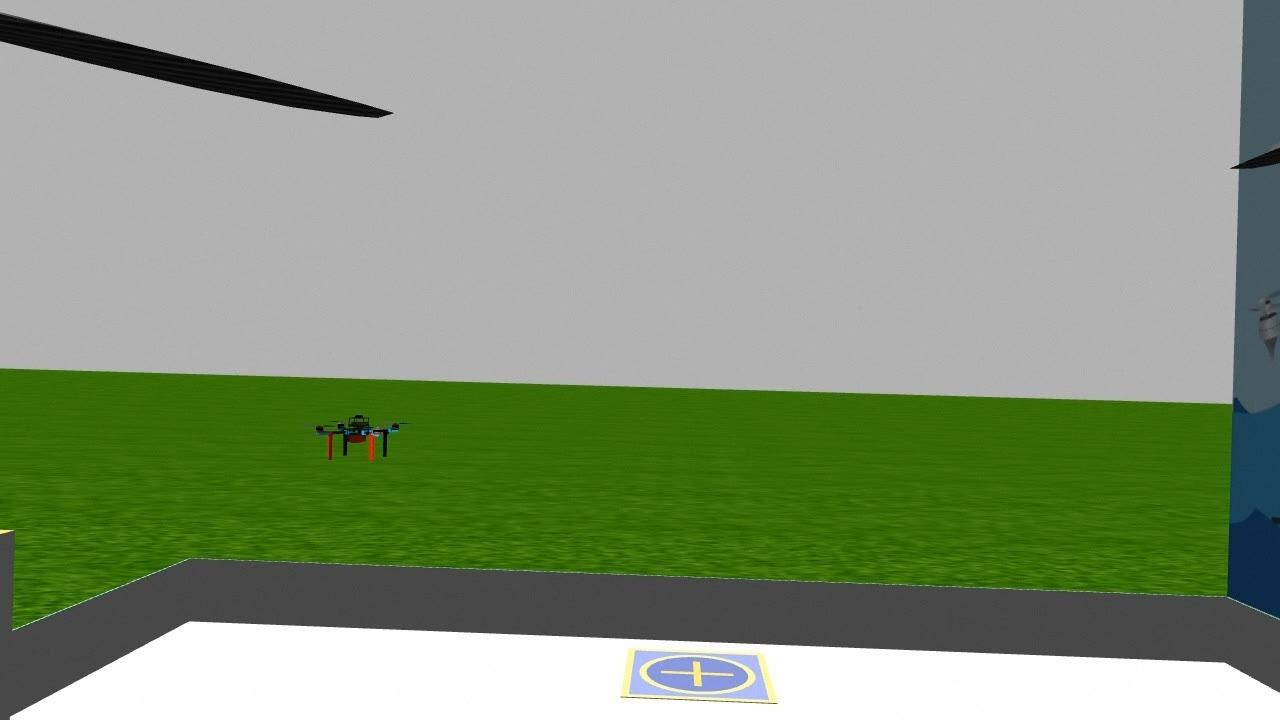UAV: (310, 401, 406, 482)
